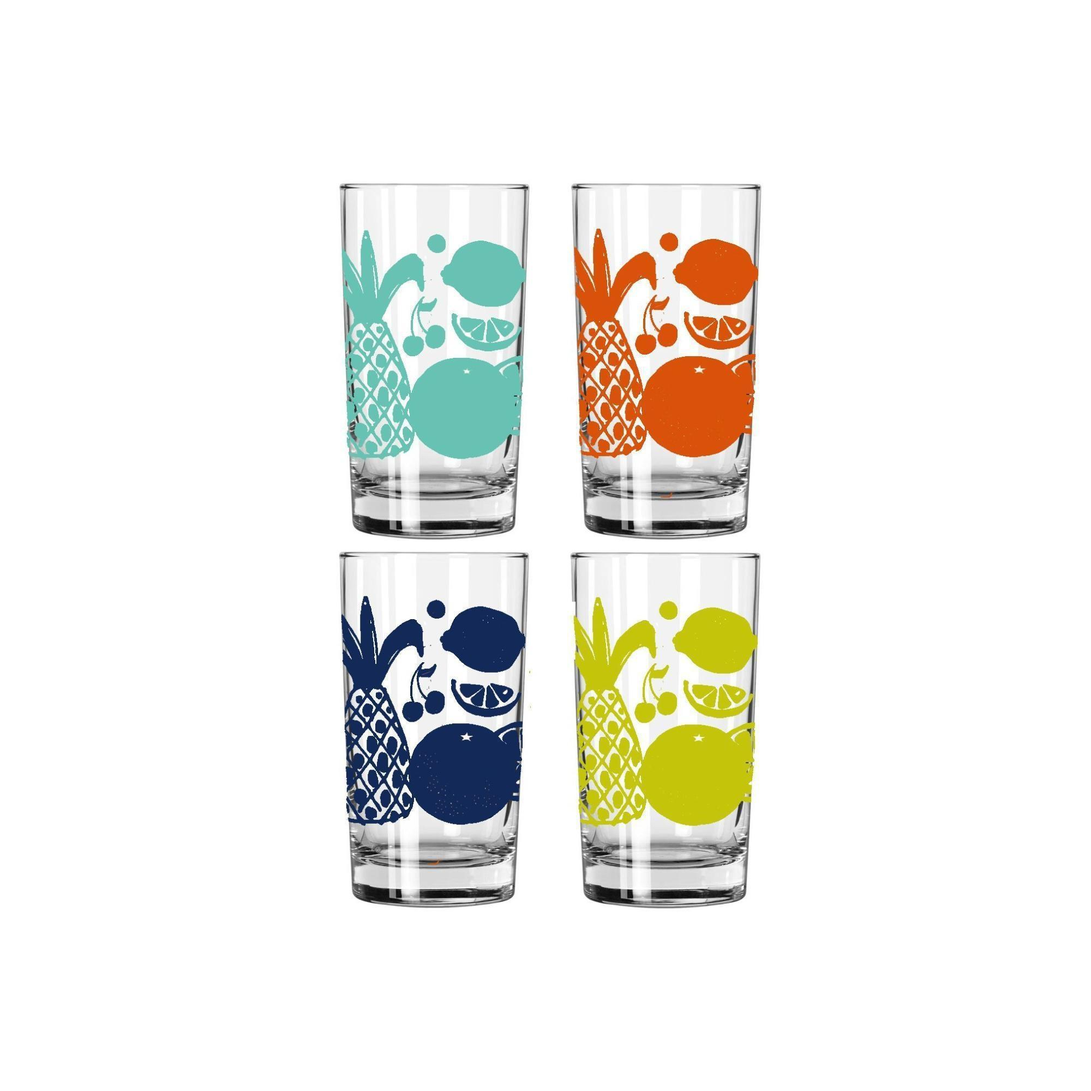glass-normal: (567, 171, 772, 539), (334, 543, 536, 908), (565, 545, 769, 906), (331, 176, 532, 536)
